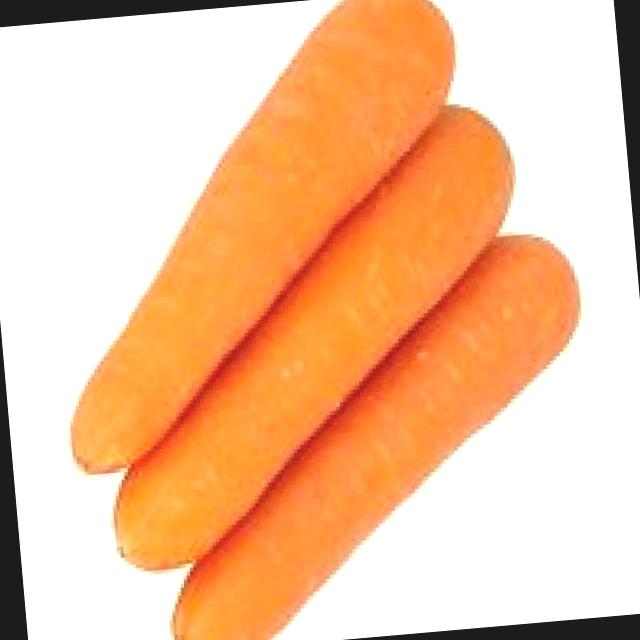carrot: (71, 0, 453, 472), (118, 110, 506, 573), (170, 232, 579, 640)
